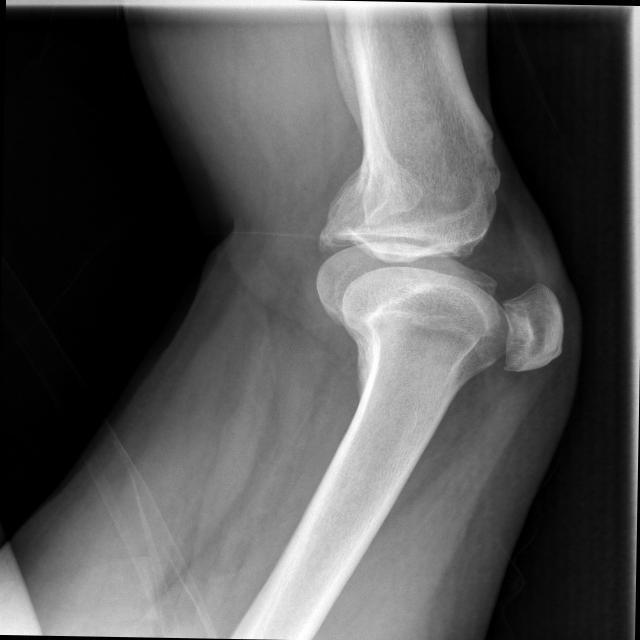Knee: (312, 180, 571, 377)
